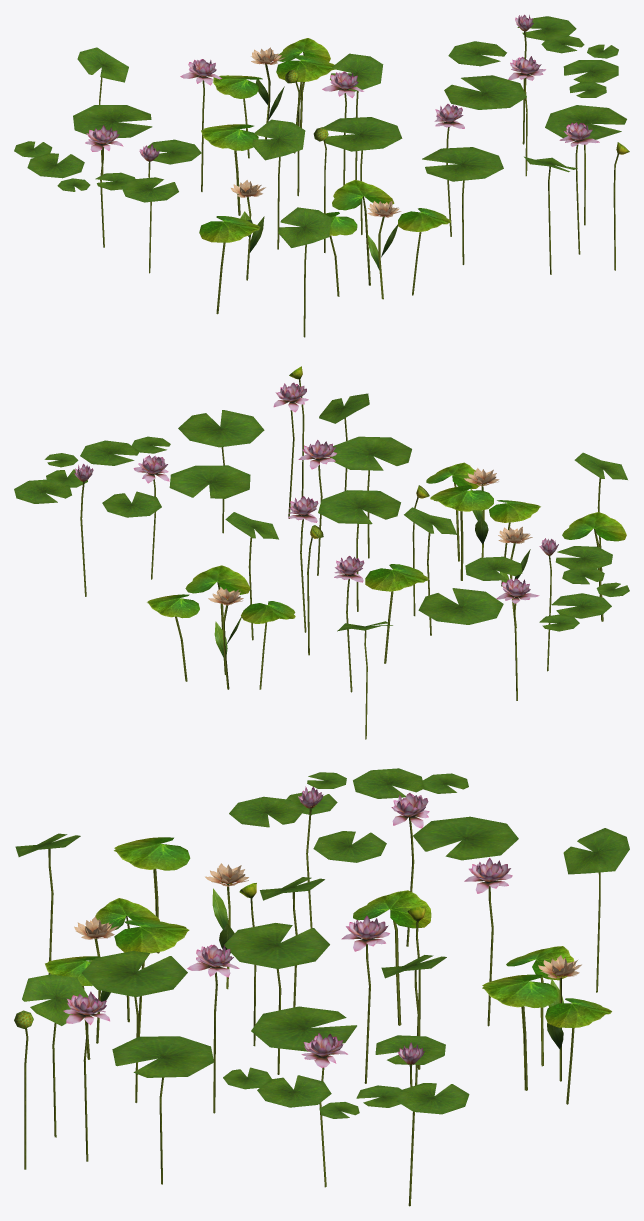
Rendered from lotusflower_10.glb.
3 renders of one model, top to bottom at view 1: azimuth 30°, elevation 25°; view 2: azimuth 150°, elevation 25°; view 3: azimuth 270°, elevation 25°, orthographic. The views are drawn at different scales.
Parts seen in each view (by area): view 1: lotusflower_10; view 2: lotusflower_10; view 3: lotusflower_10.
Boxes of the visible parts, <box> form: lotusflower_10: <box>14,14,629,337</box>; lotusflower_10: <box>14,366,629,739</box>; lotusflower_10: <box>14,768,629,1206</box>.
Size of the model in its own units: 8.37 by 1.85 by 6.23.
1 material, 1 textured.
